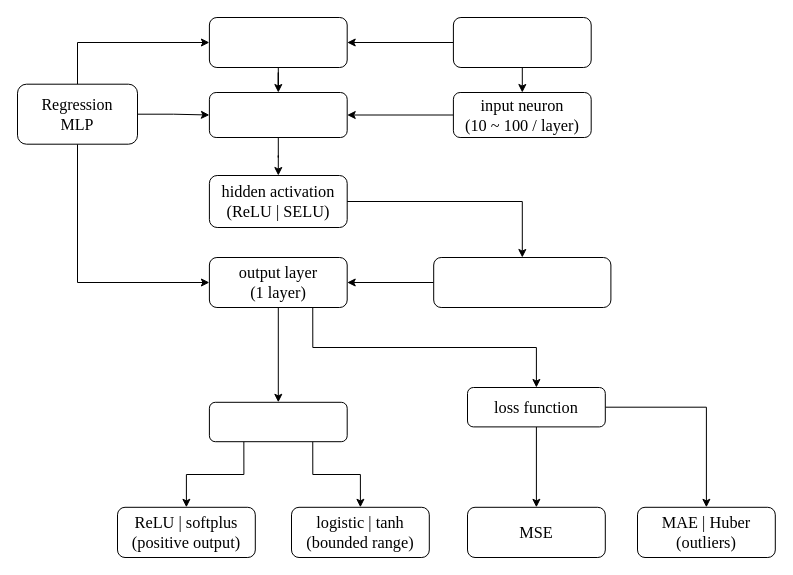
Some shapes in this 793 by 575 pixel diagram are drawn without their labels. The box of each missing label's shape, as (x1, y1, x2, y2) in pixels:
hidden layer ( 1 ~ 5 layers ): (208, 92, 347, 138)
input layer ( 1 layer ): (208, 16, 347, 68)
input neuron ( 1 / feature ): (452, 16, 591, 68)
output activation: (208, 401, 347, 442)
output neuron (1 / prediction dimension): (433, 256, 611, 308)
